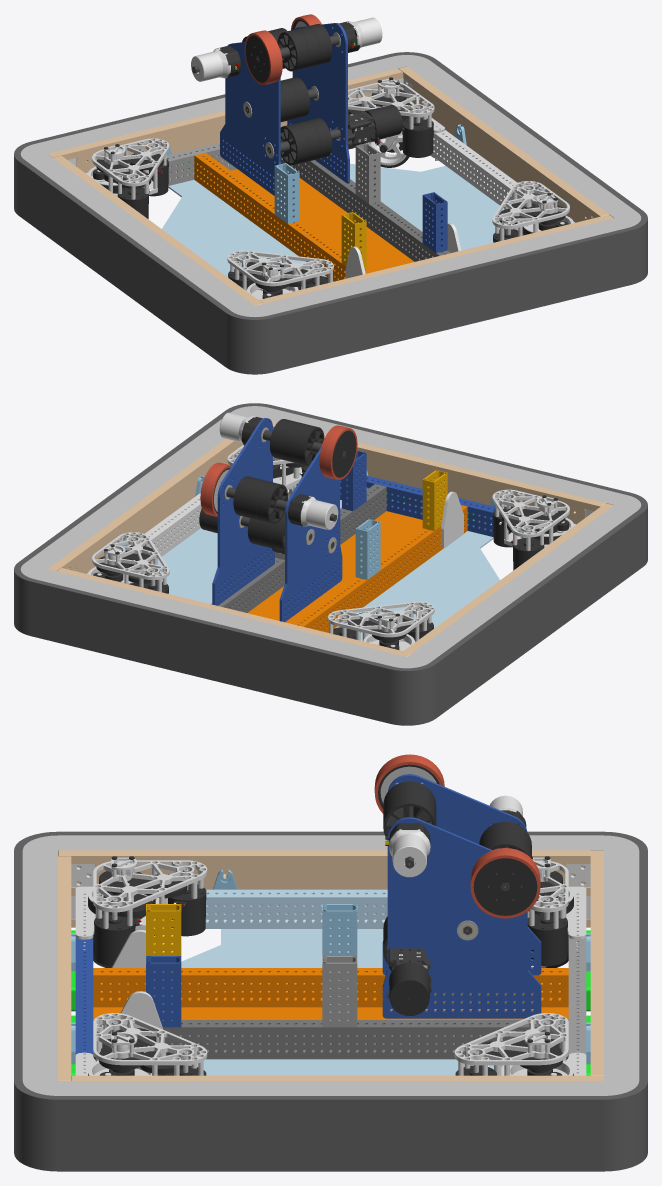
3 renders of one model, top to bottom at view 1: azimuth 30°, elevation 25°; view 2: azimuth 150°, elevation 25°; view 3: azimuth 270°, elevation 25°, orthographic. The views are drawn at different scales.
Visible parts, largest first — view 1: Part 20 (×4), Part 19 (×4), Part 18 (×4), Part 13 (×2), Part 2 (×2), Tube 2"x1"x27" (×2), MK4i Master Part V2_Default Falcon 500 Config (×4), Tube 2"x1"x4" (×4), Tube 2"x1"x20.5" (×2), Part 22 (×2), 3" Compliant Wheel (60A, 1" Wide, 1/2" Hex Bore) (×5), Part 14 (+3 smaller); view 2: Part 20 (×4), Part 19 (×4), Part 18 (×4), Part 2 (×2), Part 13 (×2), Tube 2"x1"x27" (×2), MK4i Master Part V2_Default Falcon 500 Config (×3), Tube 2"x1"x20.5" (×2), 3" Compliant Wheel (60A, 1" Wide, 1/2" Hex Bore) (×6), Tube 2"x1"x4" (×3), Part 22 (×2), Part 14 (+4 smaller); view 3: Part 20 (×4), Part 19 (×4), Part 2 (×2), Tube 2"x1"x27" (×2), Part 18 (×4), MK4i Master Part V2_Default Falcon 500 Config (×6), Tube 2"x1"x20.5" (×3), Part 13 (×2), Tube 2"x1"x4" (×4), Part 22 (×2), NEO Brushless Motor V1.1 (×4), 4" Stealth Wheel (40A, 1/2" Hex Bore) (×2) (+4 smaller).
Boxes of the visible parts, <box> form: Part 20 (×4): <box>18,54,642,372</box>; Part 19 (×4): <box>24,56,637,315</box>; Part 18 (×4): <box>48,66,613,305</box>; Part 13 (×2): <box>162,163,504,289</box>; Part 2 (×2): <box>220,23,349,195</box>; Tube 2"x1"x27" (×2): <box>194,152,450,281</box>; MK4i Master Part V2_Default Falcon 500 Config (×4): <box>92,81,569,290</box>; Tube 2"x1"x4" (×4): <box>274,143,447,270</box>; Tube 2"x1"x20.5" (×2): <box>166,130,539,208</box>; Part 22 (×2): <box>226,211,647,374</box>; 3" Compliant Wheel (60A, 1" Wide, 1/2" Hex Bore) (×5): <box>277,24,332,165</box>; Part 14: <box>231,169,414,272</box>; Part 20 (×4): <box>19,405,643,723</box>; Part 19 (×4): <box>24,407,637,666</box>; Part 18 (×4): <box>48,421,613,656</box>; Part 2 (×2): <box>212,418,342,622</box>; Part 13 (×2): <box>152,507,499,639</box>; Tube 2"x1"x27" (×2): <box>211,484,467,632</box>; MK4i Master Part V2_Default Falcon 500 Config (×3): <box>92,489,569,641</box>; Tube 2"x1"x20.5" (×2): <box>127,475,495,563</box>; 3" Compliant Wheel (60A, 1" Wide, 1/2" Hex Bore) (×6): <box>233,419,324,523</box>; Tube 2"x1"x4" (×3): <box>341,450,447,579</box>; Part 22 (×2): <box>14,562,435,725</box>; Part 14: <box>247,511,422,623</box>; Part 20 (×4): <box>14,831,647,1171</box>; Part 19 (×4): <box>22,835,639,1095</box>; Part 2 (×2): <box>382,774,541,1018</box>; Tube 2"x1"x27" (×2): <box>93,968,568,1059</box>; Part 18 (×4): <box>58,850,603,1080</box>; MK4i Master Part V2_Default Falcon 500 Config (×6): <box>75,860,586,1075</box>; Tube 2"x1"x20.5" (×3): <box>75,889,586,1054</box>; Part 13 (×2): <box>101,929,560,1075</box>; Tube 2"x1"x4" (×4): <box>146,904,357,1027</box>; Part 22 (×2): <box>14,1081,647,1171</box>; NEO Brushless Motor V1.1 (×4): <box>94,868,567,1015</box>; 4" Stealth Wheel (40A, 1/2" Hex Bore) (×2): <box>374,754,540,918</box>.
Bounding box in the file's own units: 0.9144 × 0.4894 × 0.9144.
